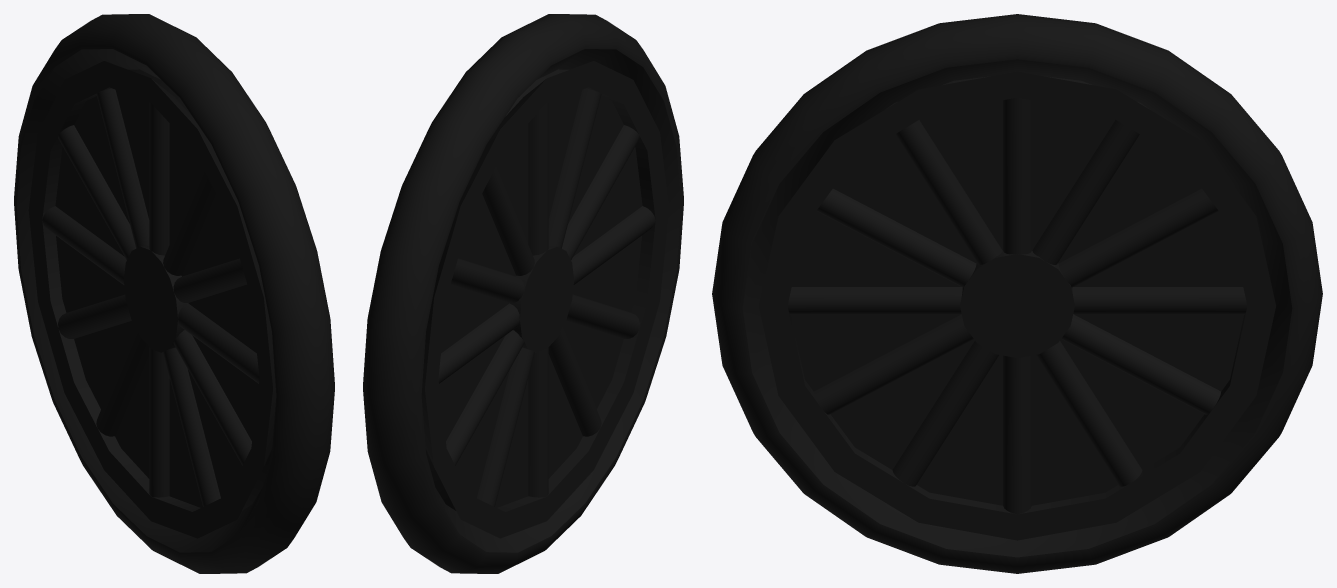
File: LlantaD.obj
The picture shows the model from 3 angles, left to right: view 1: azimuth 30°, elevation 25°; view 2: azimuth 150°, elevation 25°; view 3: azimuth 270°, elevation 25°; orthographic projection. The views are drawn at different scales.
Visible parts, largest first — view 1: LantaD; view 2: LantaD; view 3: LantaD.
Boxes of the visible parts, <box> form: LantaD: <box>14,14,334,573</box>; LantaD: <box>363,14,683,573</box>; LantaD: <box>712,14,1322,573</box>.
Bounding box in the file's own units: 0.1662 × 1.49 × 1.49.
